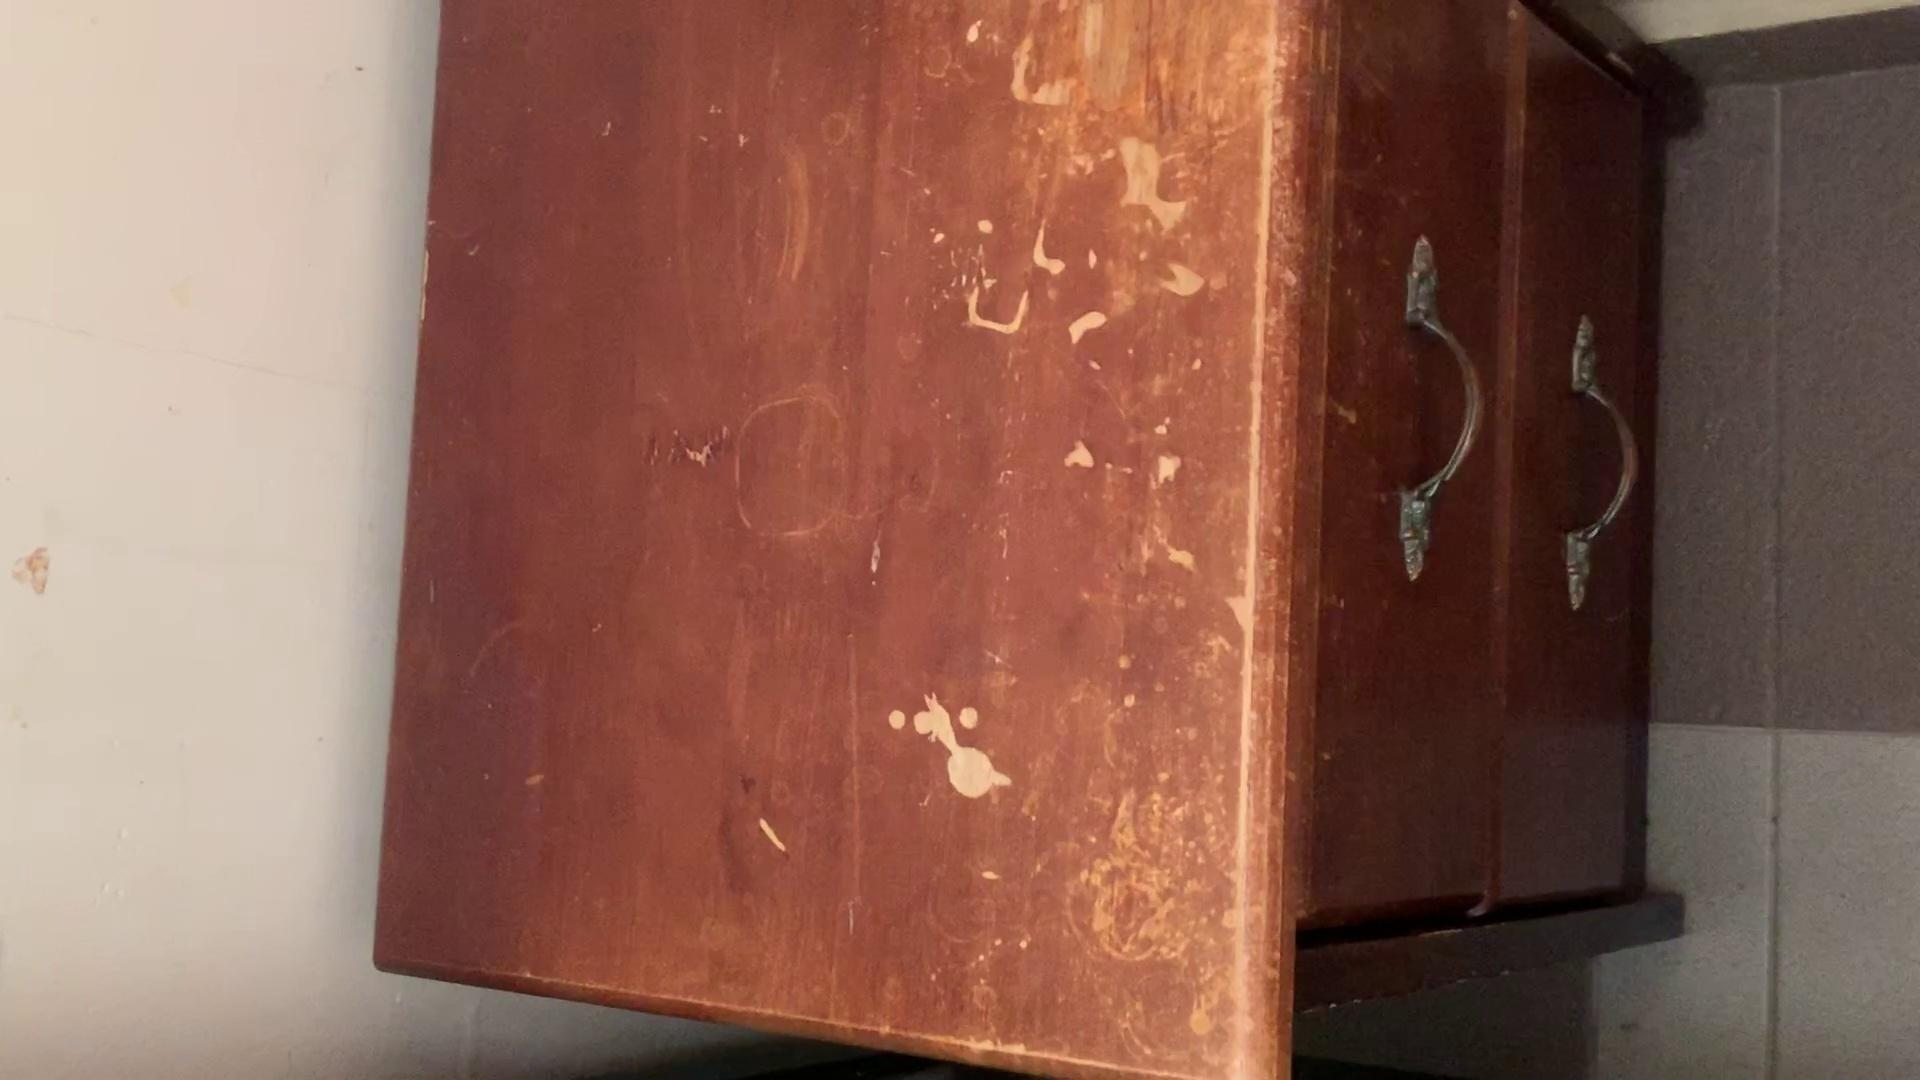cabinet_door: (1332, 30, 1505, 920), (1516, 30, 1656, 890)
handle: (1394, 227, 1493, 592), (1553, 307, 1646, 617)
